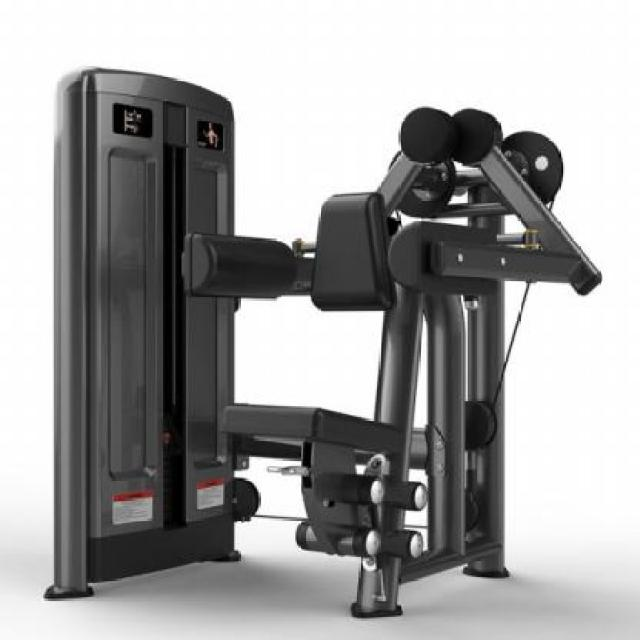lateral raises machine: (46, 63, 606, 619)
